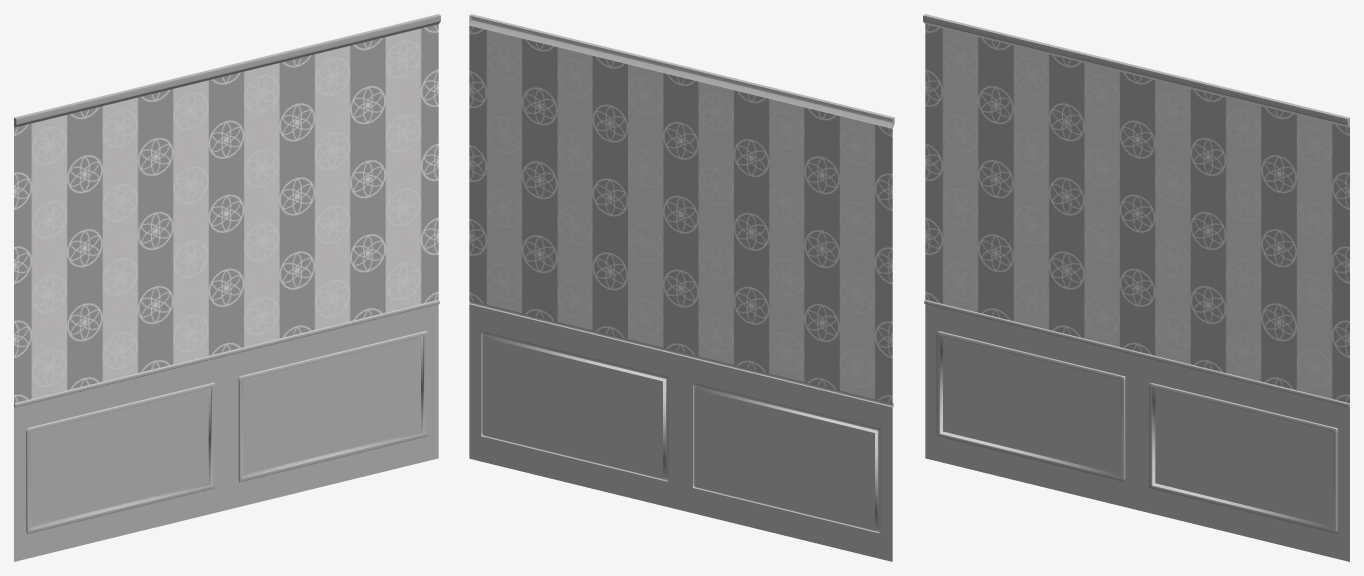
The model's file is WallNiche03_350cm.FBX.
3 renders of one model, left to right at view 1: azimuth 30°, elevation 25°; view 2: azimuth 150°, elevation 25°; view 3: azimuth 330°, elevation 25°, orthographic.
Parts seen in each view (by area): view 1: WallNiche03_350cm; view 2: WallNiche03_350cm; view 3: WallNiche03_350cm.
Part boxes in pixels (bbox=[...]): WallNiche03_350cm: bbox=[14, 14, 440, 561]; WallNiche03_350cm: bbox=[469, 14, 894, 561]; WallNiche03_350cm: bbox=[923, 14, 1349, 561].
Size of the model in its own units: 3500 by 3500 by 60.
